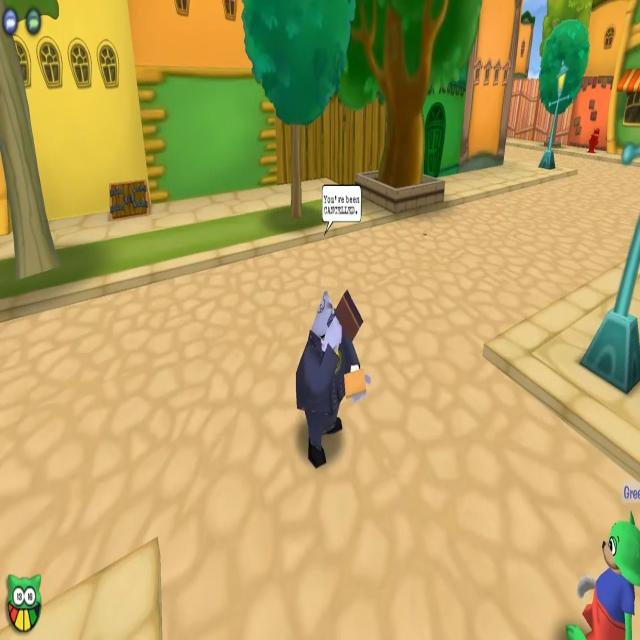bottomfeeder: (291, 180, 369, 474)
